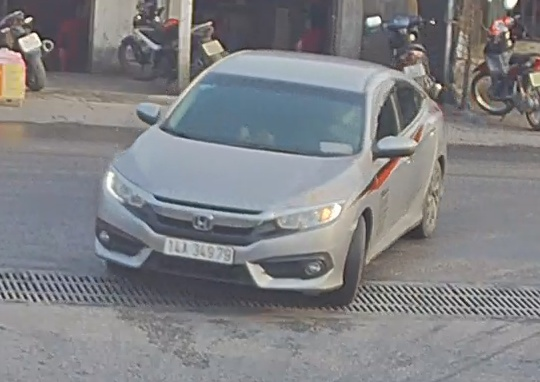vehicle plate: (159, 229, 235, 272)
